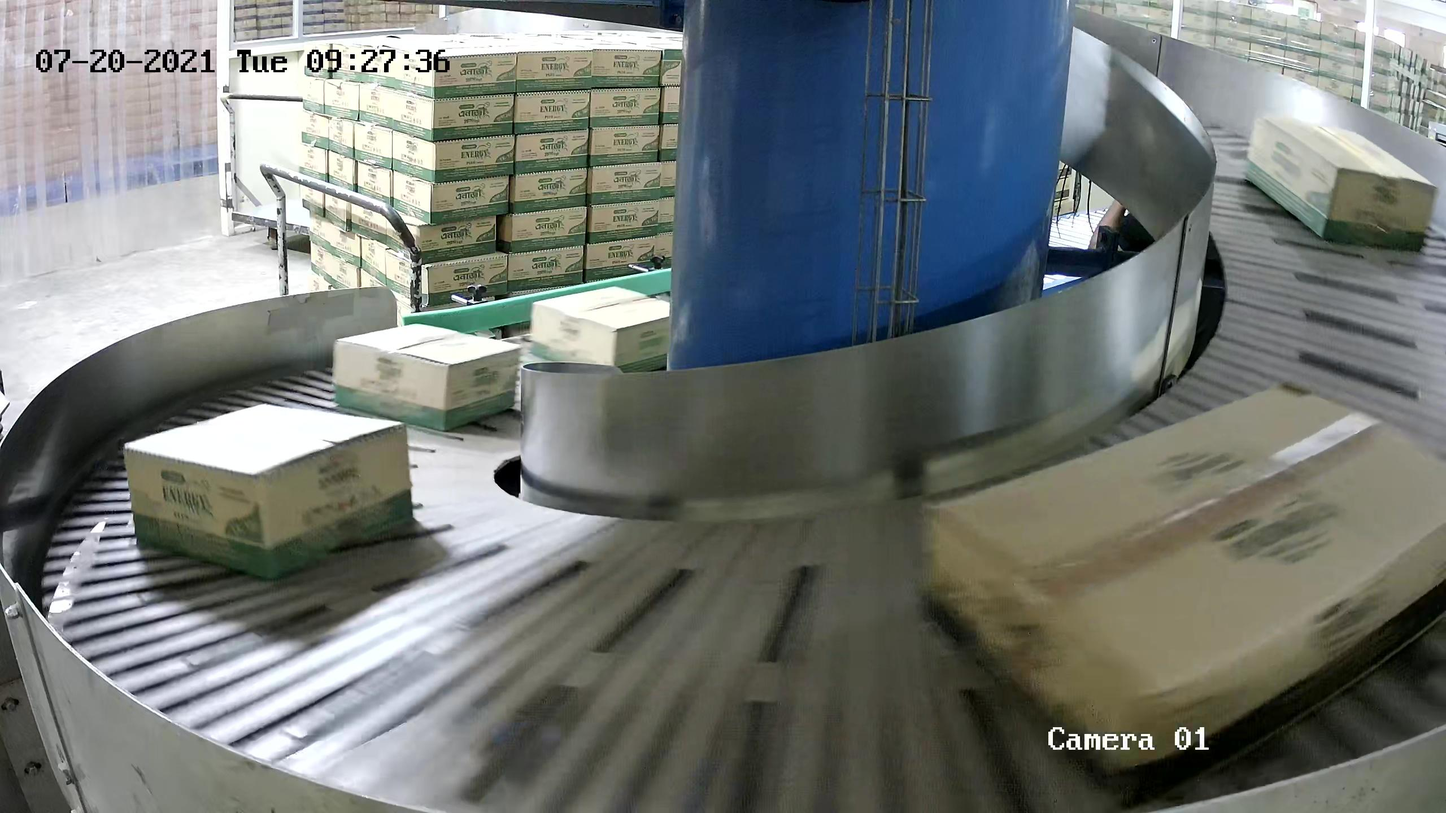Box: (923, 379, 1446, 808), (121, 400, 415, 583), (1240, 111, 1439, 252), (332, 321, 523, 434), (529, 284, 670, 375)
